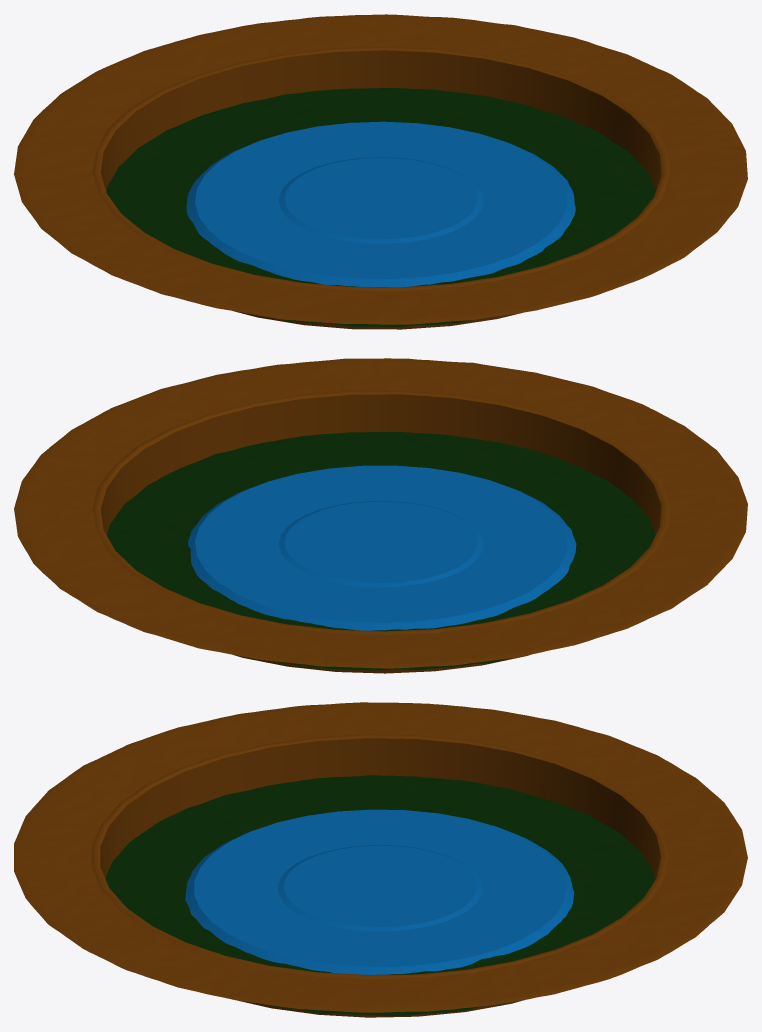
File: Map_IS.FBX
3 views of the same model, one above another, from view 1: azimuth 30°, elevation 25°; view 2: azimuth 150°, elevation 25°; view 3: azimuth 270°, elevation 25° (orthographic).
Visible parts, largest first — view 1: Desert, Buildings, Trees; view 2: Desert, Buildings, Trees; view 3: Desert, Buildings, Trees.
Part boxes in pixels (box(x1,y1,x2,y2)): Desert: box(14, 14, 747, 329); Buildings: box(186, 121, 575, 287); Trees: box(106, 87, 656, 327); Desert: box(14, 358, 747, 673); Buildings: box(188, 465, 576, 630); Trees: box(107, 432, 655, 670); Desert: box(14, 702, 747, 1017); Buildings: box(185, 809, 574, 974); Trees: box(105, 775, 654, 1016).
Bounding box in the file's own units: 986 × 67.47 × 985.
